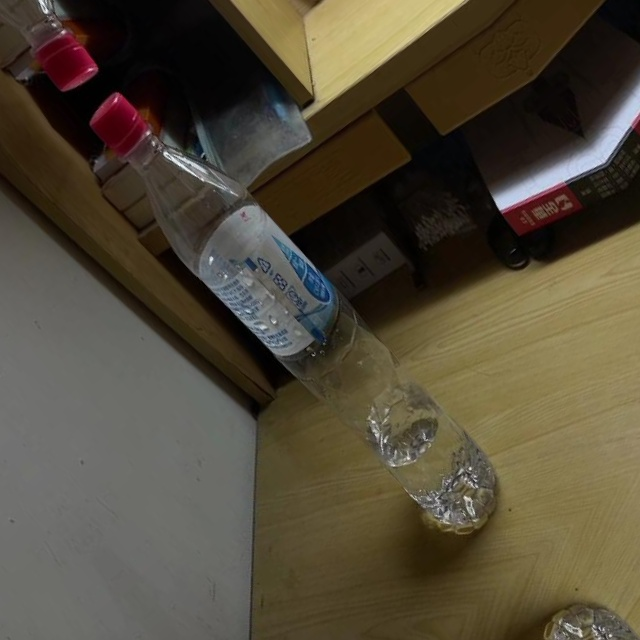Water: (72, 60, 521, 566)
